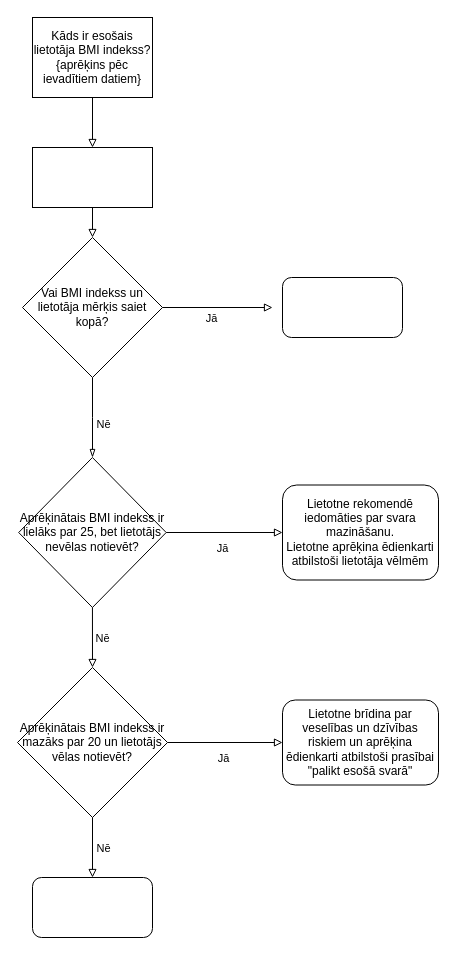
This 456x955 diagram has some shape labels left out. Here are the shapes that lost their labels. From the top down, the centre of each, then its label:
[92,177]: Kāds ir lietotāja mērķis {ievadīts anketas posmā}
[342,307]: Lietotne aprēķinās ēdienkarti atbilsoši lietotāja vēlmēm
[92,907]: Lietotne aprēķina ēdienkarti atbilstoši lietotāja vēlmēm
